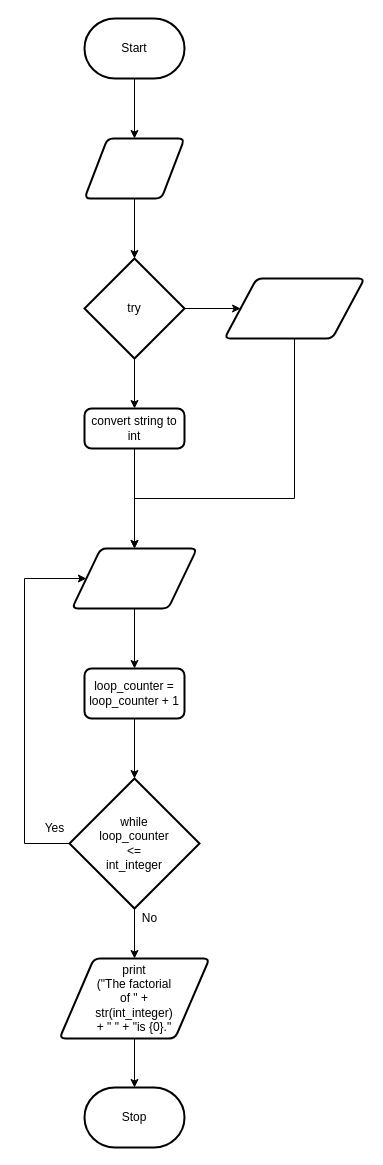
This 383x1165 diagram has some shape labels left out. The centre of each missing label's shape, as x and y in pixels:
Enter int_integer: (x=134, y=168)
factorial = factorial * loop_counter: (x=134, y=578)
print("That was not a valid input"): (x=294, y=308)
